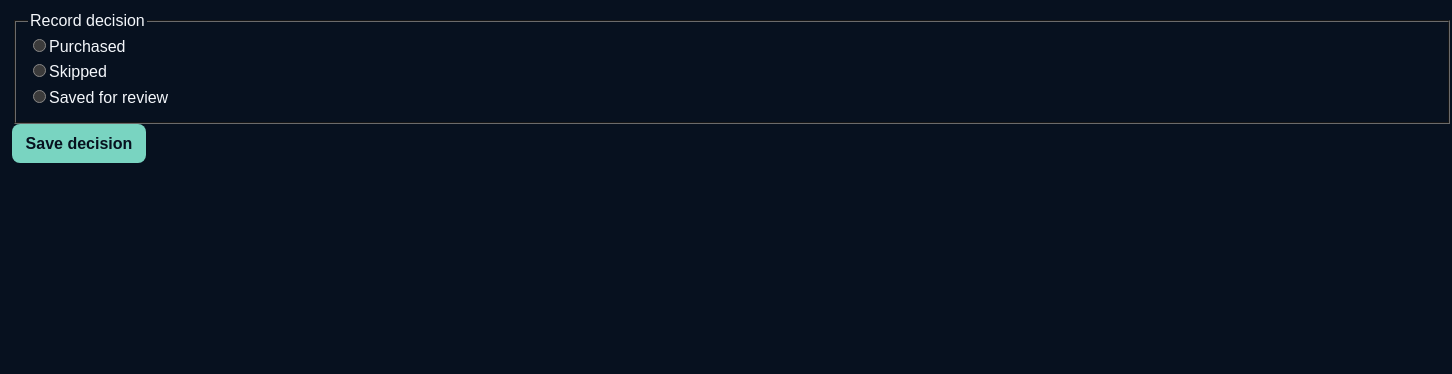
Test: PurchaseDecision › shows quantity one by default but never auto-saves a purchase (mutation: persist the visible default without explicit save)
Click the radio button labelled "Purchased" at x=40, y=45, box [33,39,46,52]
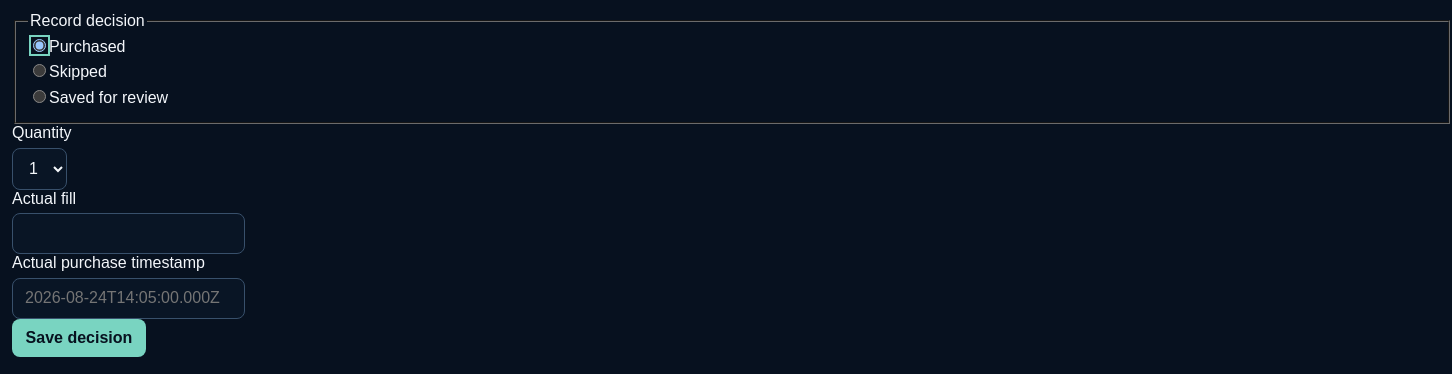
Result: the dropdown labelled "Quantity" shows "1" at [12,148,67,190]
